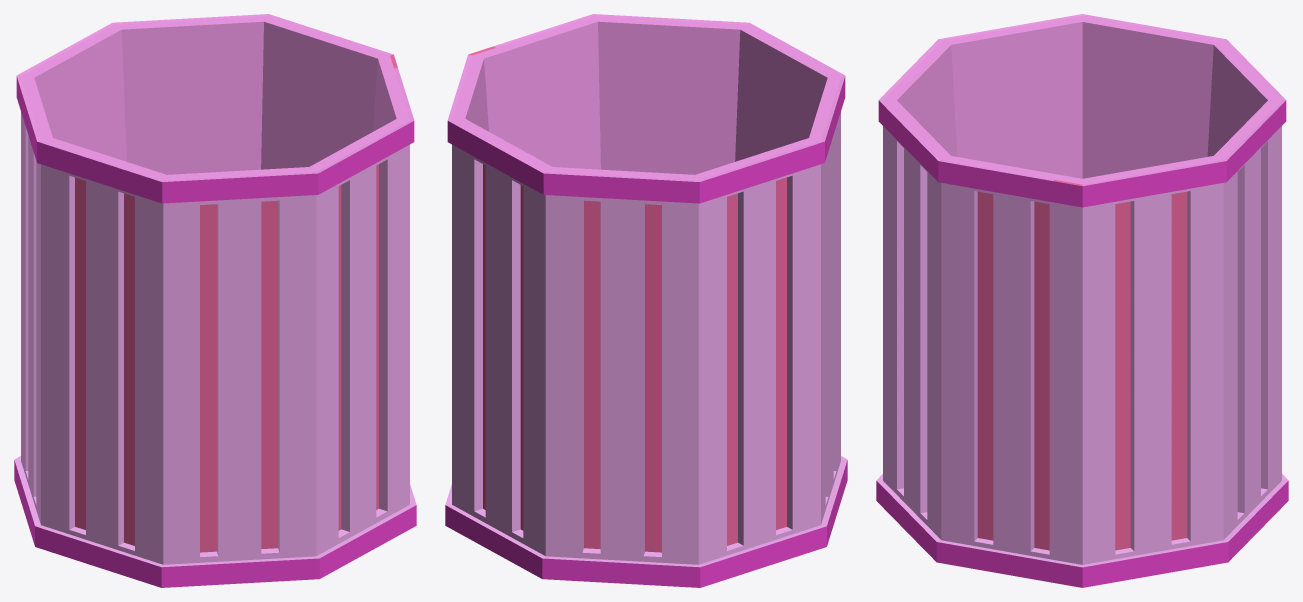
The model's file is basura.fbx.
3 views of the same model, side by side, from view 1: azimuth 30°, elevation 25°; view 2: azimuth 150°, elevation 25°; view 3: azimuth 270°, elevation 25° (orthographic).
Parts seen in each view (by area): view 1: Caneca; view 2: Caneca; view 3: Caneca.
Boxes of the visible parts, x1,y1,x2,y2 form: Caneca: (14,14,416,587); Caneca: (445,14,847,587); Caneca: (876,14,1288,587).
Bounding box in the file's own units: 203 × 217 × 203.
Materials: 1 (1 with a texture image).
